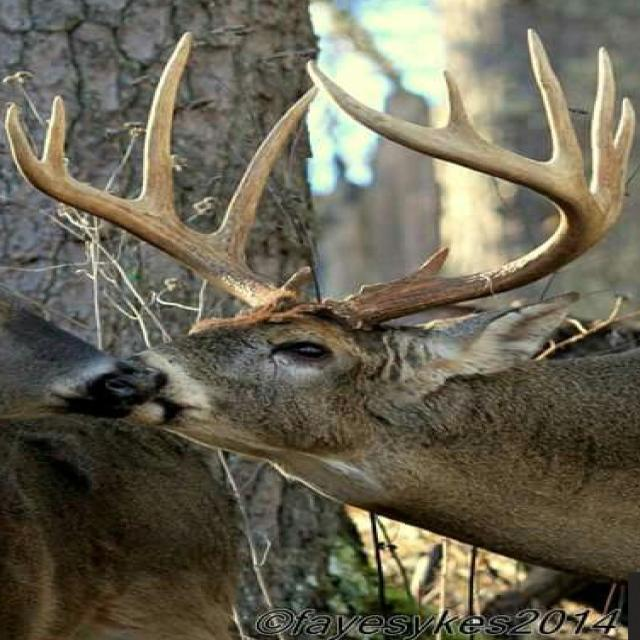L-F: (305, 59, 607, 332)
L-G1: (400, 246, 450, 280)
L-G3: (591, 45, 616, 220)
L-G4: (527, 28, 584, 183)
L-G5: (442, 68, 479, 136)
R-G1: (277, 266, 312, 301)
R-G2: (214, 87, 319, 262)
R-G3: (135, 30, 195, 212)
R-G4: (41, 94, 68, 173)
